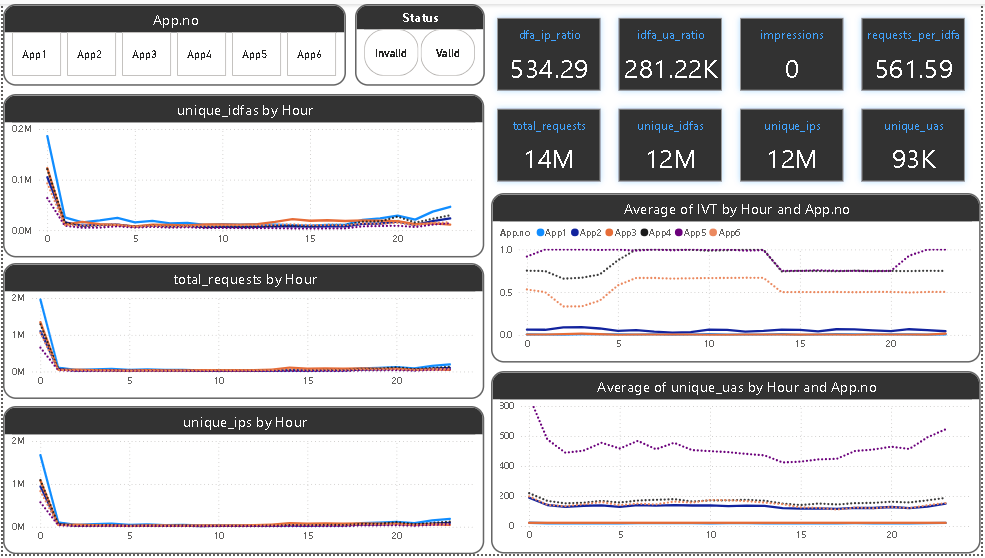

Layout of this report page (visuals, bound fields, positions):
{"tool":"powerbi","page":{"name":"By Hourly","canvas":[1280,720],"ordinal":0},"visuals":[{"type":"lineChart","fields":{"Y":["Avg(CombinedAll.IVT)"],"Series":["CombinedAll.App.no"],"Category":["CombinedAll.Hour"]},"box":[639.4,247.7,640.8,221.8],"z":0},{"type":"lineChart","title":"total_requests by Hour ","fields":{"Y":["Sum(CombinedAll.total_requests)"],"Series":["CombinedAll.App.no"],"Category":["CombinedAll.Hour"]},"box":[0,339.2,630.4,178.1],"z":1000},{"type":"lineChart","title":"unique_idfas by Hour","fields":{"Series":["CombinedAll.App.no"],"Y":["Avg(CombinedAll.unique_idfas)"],"Category":["CombinedAll.Hour"]},"box":[0,117.3,630.4,214.4],"z":2000},{"type":"lineChart","title":"unique_ips by Hour","fields":{"Y":["Sum(CombinedAll.unique_ips)"],"Series":["CombinedAll.App.no"],"Category":["CombinedAll.Hour"]},"box":[0,525.9,630.4,194.1],"z":3000},{"type":"lineChart","fields":{"Series":["CombinedAll.App.no"],"Y":["Avg(CombinedAll.unique_uas)"],"Category":["CombinedAll.Hour"]},"box":[639.4,481,640.8,239],"z":4000},{"type":"advancedSlicerVisual","fields":{"Values":["CombinedAll.App.no"]},"box":[0,0,449.3,106.6],"z":5000},{"type":"advancedSlicerVisual","fields":{"Values":["CombinedAll.Status"]},"box":[460.8,0,169.9,106.6],"z":6000},{"type":"cardVisual","fields":{"Data":["Sum(CombinedAll.idfa_ip_ratio)","Sum(CombinedAll.idfa_ua_ratio)","Sum(CombinedAll.impressions)","Sum(CombinedAll.requests_per_idfa)","Sum(CombinedAll.total_requests)","Sum(CombinedAll.unique_idfas)","Sum(CombinedAll.unique_ips)","Sum(CombinedAll.unique_uas)"]},"box":[630.7,5.8,646.6,241.9],"z":6001}]}

Visuals, with their boxes in screenshot pixels (x1, y1, x2, y2), scaled from the page's 1280x720 canvas onto the 985x558 screenshot:
lineChart - Avg(CombinedAll.IVT) x CombinedAll.App.no: [x1=492, y1=192, x2=984, y2=364]
"total_requests by Hour " lineChart: [x1=0, y1=263, x2=485, y2=401]
"unique_idfas by Hour" lineChart: [x1=0, y1=91, x2=485, y2=257]
"unique_ips by Hour" lineChart: [x1=0, y1=408, x2=485, y2=557]
lineChart - CombinedAll.App.no x Avg(CombinedAll.unique_uas): [x1=492, y1=373, x2=984, y2=557]
advancedSlicerVisual - CombinedAll.App.no: [x1=0, y1=0, x2=346, y2=83]
advancedSlicerVisual - CombinedAll.Status: [x1=355, y1=0, x2=485, y2=83]
cardVisual - Sum(CombinedAll.idfa_ip_ratio) x Sum(CombinedAll.idfa_ua_ratio): [x1=485, y1=4, x2=983, y2=192]
